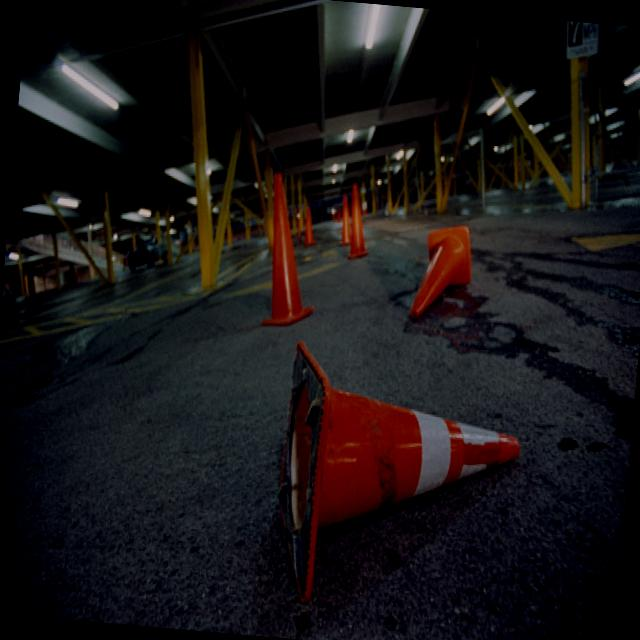cone: (241, 326, 570, 610)
